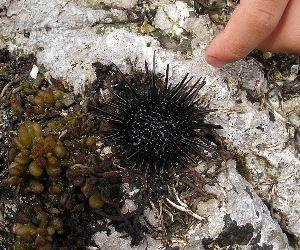urchin: (95, 60, 217, 181)
